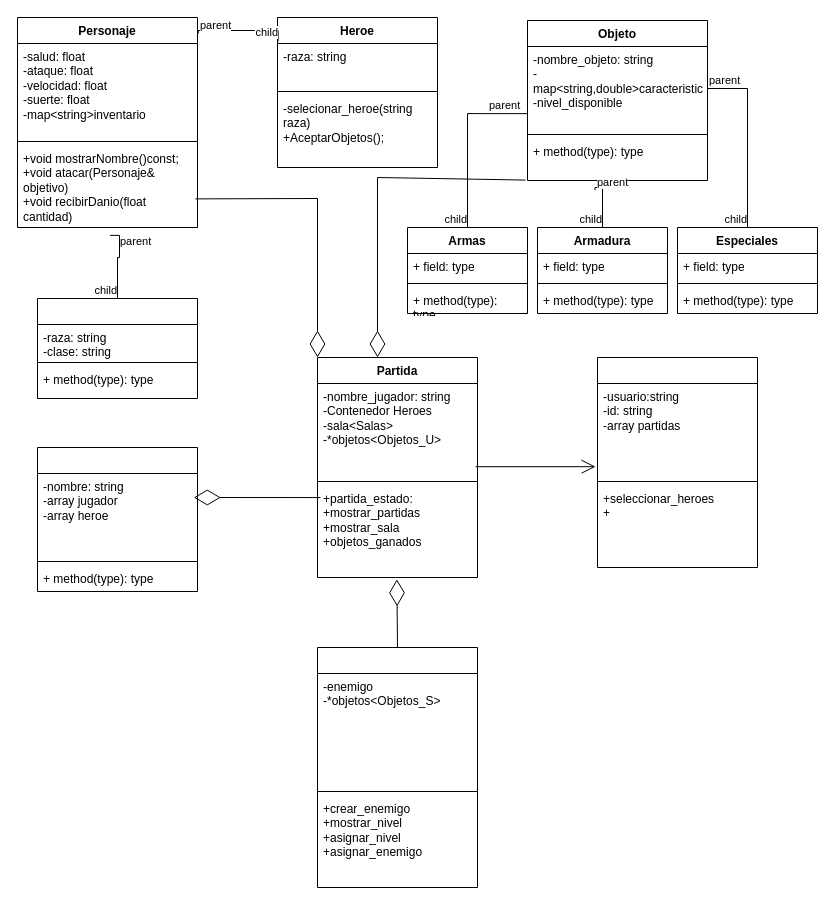
The diagram is 835 pixels wide and 908 high, and some of its shapes have lost their labels. Here are the shapes that lost their labels. From the top down, the box of each, then its label:
(36, 298, 198, 398): Enemigos
(596, 356, 758, 568): Jugador
(36, 446, 198, 592): Manejador
(316, 646, 478, 888): Sala
